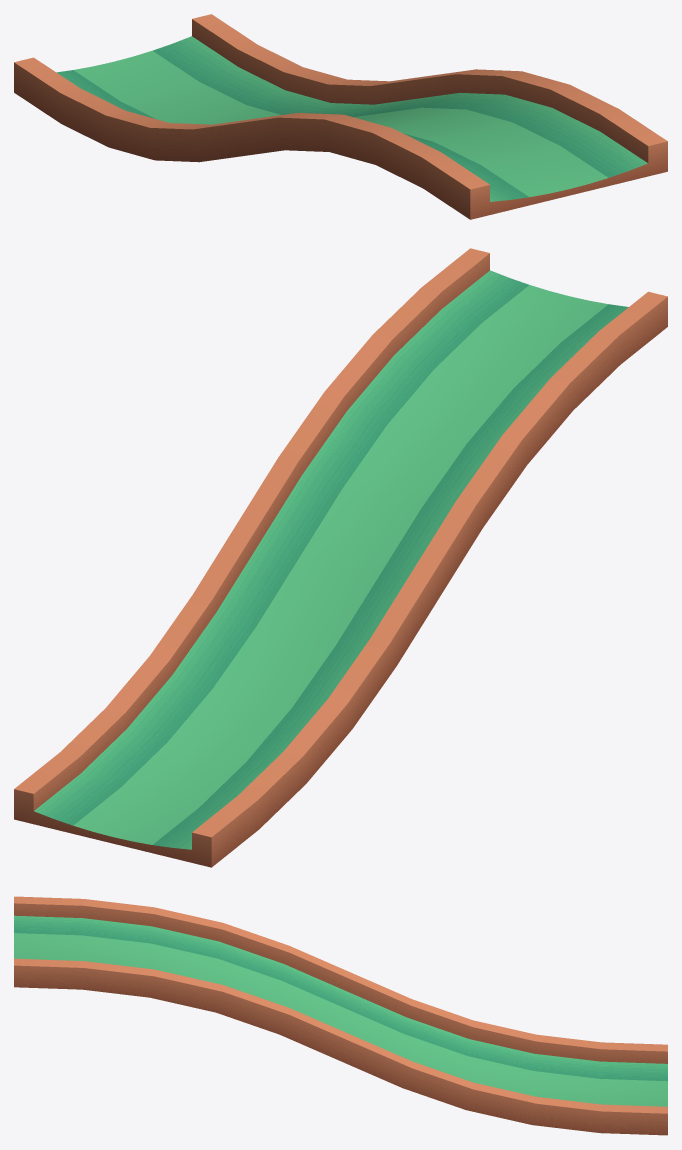
File: spline_concave_straight_hill_complete.glb
3 renders of one model, top to bottom at view 1: azimuth 30°, elevation 25°; view 2: azimuth 150°, elevation 25°; view 3: azimuth 270°, elevation 25°, orthographic. The views are drawn at different scales.
Parts seen in each view (by area): view 1: spline-concave-straight-hill-complete; view 2: spline-concave-straight-hill-complete; view 3: spline-concave-straight-hill-complete.
Part boxes in pixels (x1,y1,x2,y2): spline-concave-straight-hill-complete: (14,14,667,219); spline-concave-straight-hill-complete: (14,248,667,867); spline-concave-straight-hill-complete: (14,896,667,1135).
Bounding box in the file's own units: 0.9999 × 1.15 × 4.
1 material, 1 textured.
